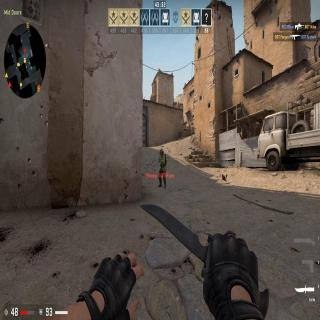CT-Body: (158, 148, 168, 189)
CT-Head: (160, 149, 163, 156)
